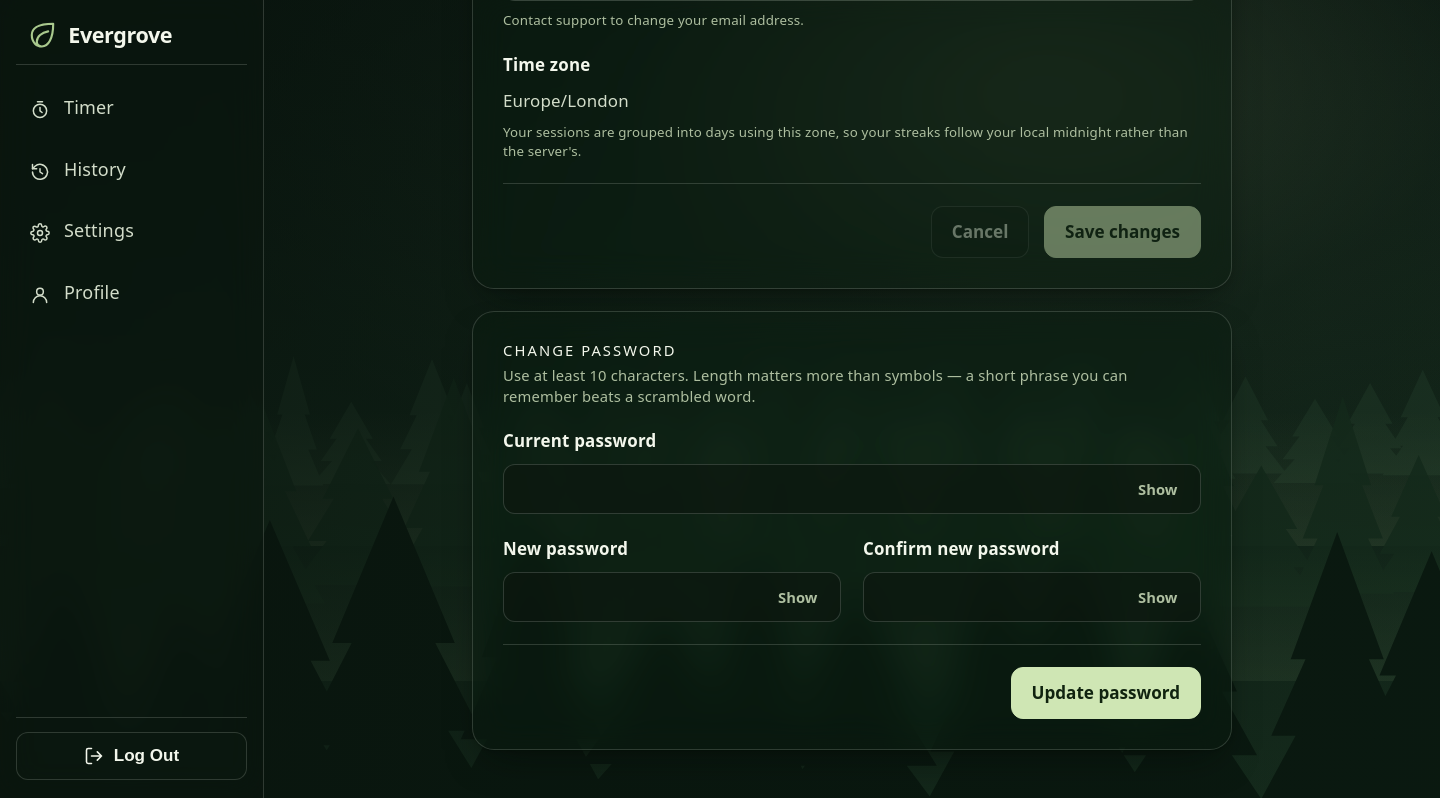
Test: Suite J8 — Changing the password › J8.2 — sends the change and empties the form on success
(page scrolled)
Type "correct horse battery staple" into the password field labelled "Current password" at (819, 489), box [519, 465, 1120, 513]
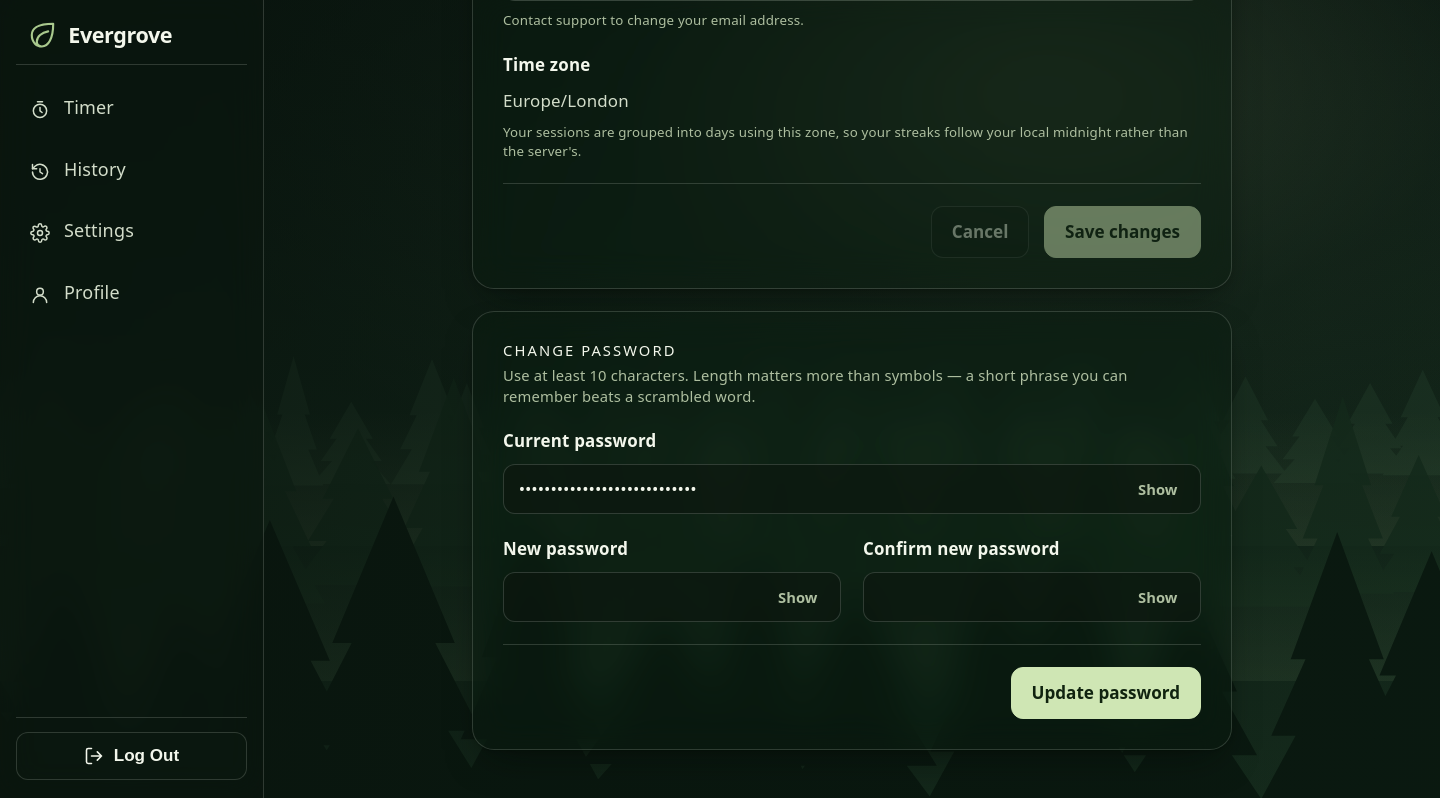
Type "a long enough new one" into the password field labelled "New password" at (639, 597), box [519, 573, 760, 621]
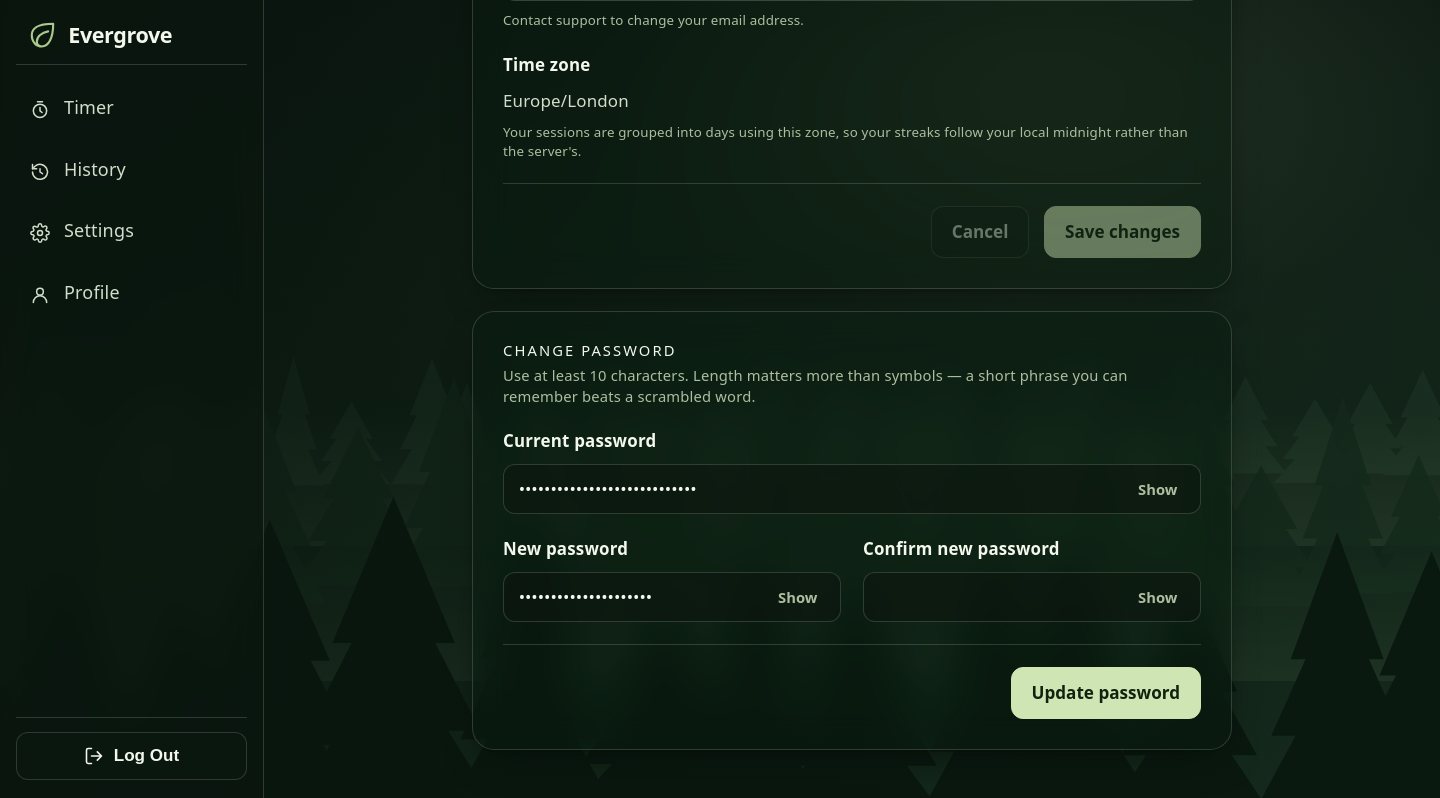
Type "a long enough new one" into the password field labelled "Confirm new password" at (999, 597), box [879, 573, 1120, 621]
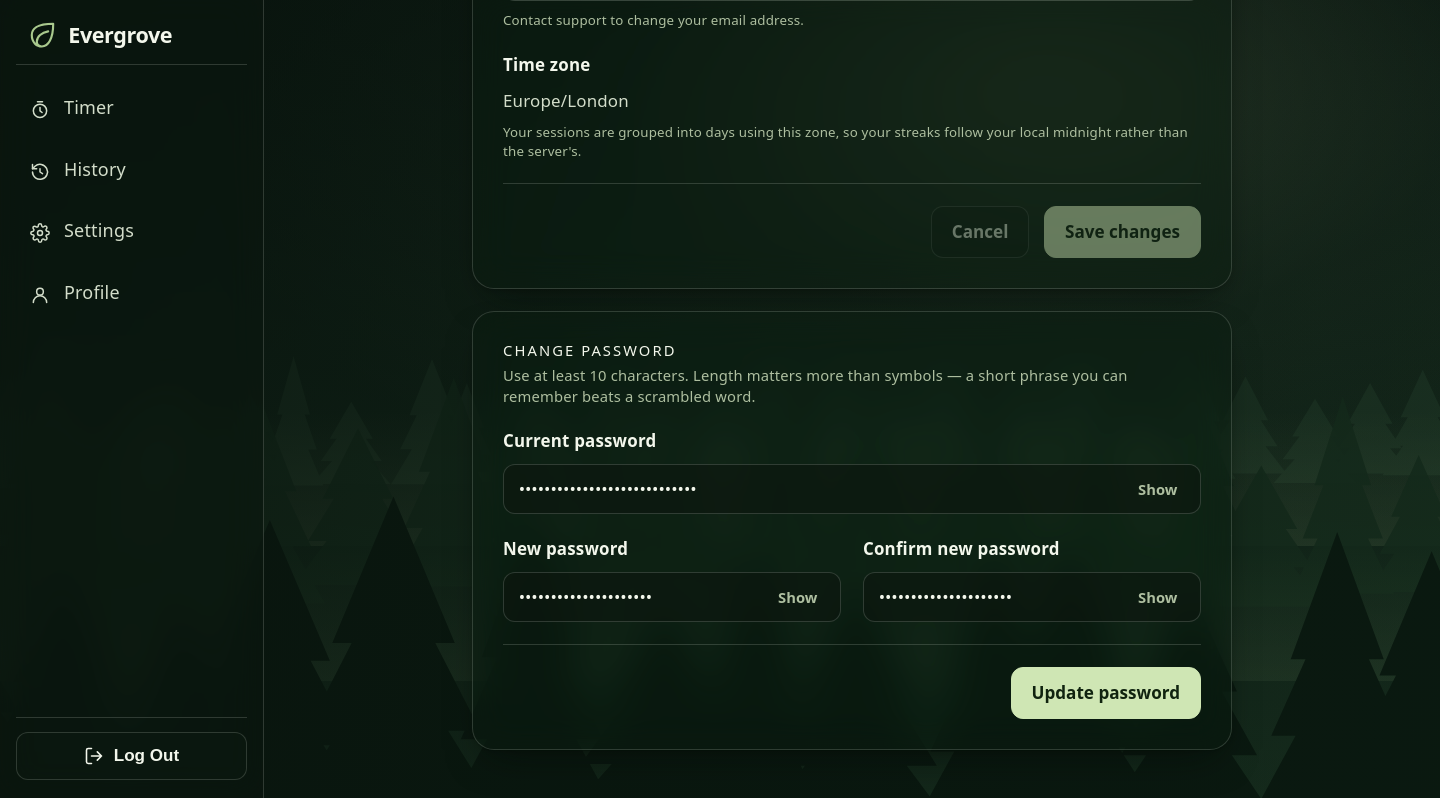
Click the button "Update password" at (1106, 693), box [1010, 667, 1201, 719]
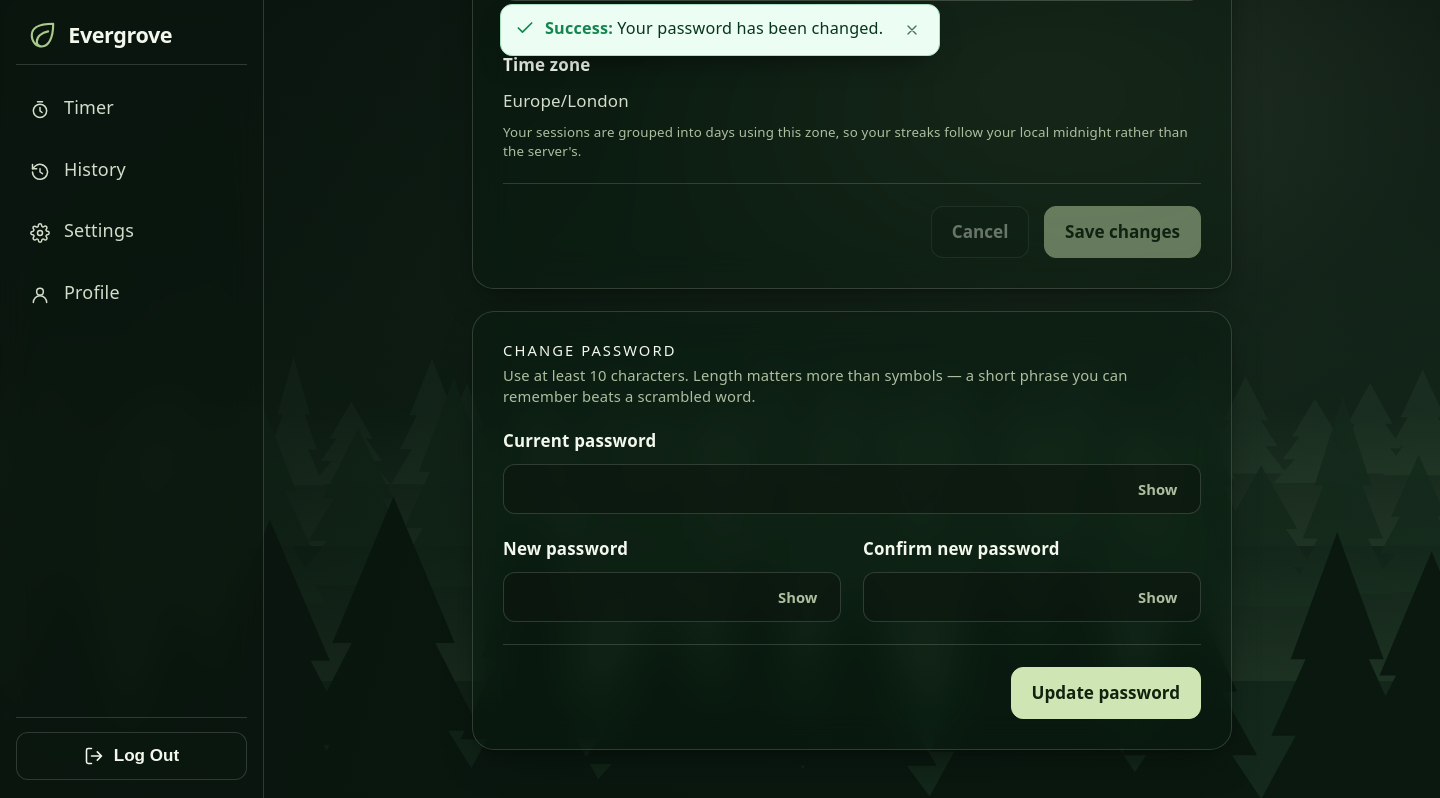
Now the text "Success: Your password has been changed." is shown, box [545, 17, 889, 40]
Now the password field labelled "Current password" is empty, box [519, 465, 1120, 513]
Now the password field labelled "New password" is empty, box [519, 573, 760, 621]
